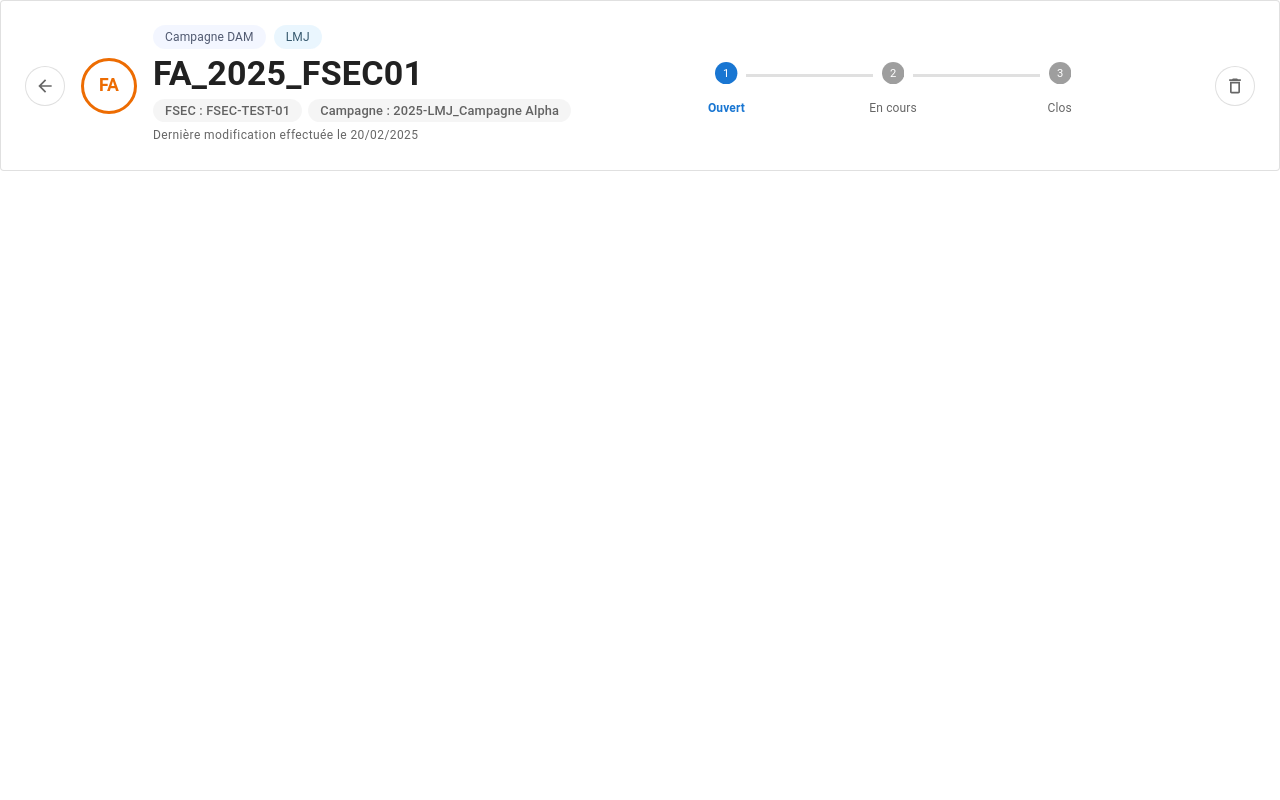
it: FaHeader › Delete flow › should open delete confirmation dialog on button click
The image size is (1280, 800).
Click the button named "Supprimer la FA" at (1235, 86), box [1215,66,1255,106]
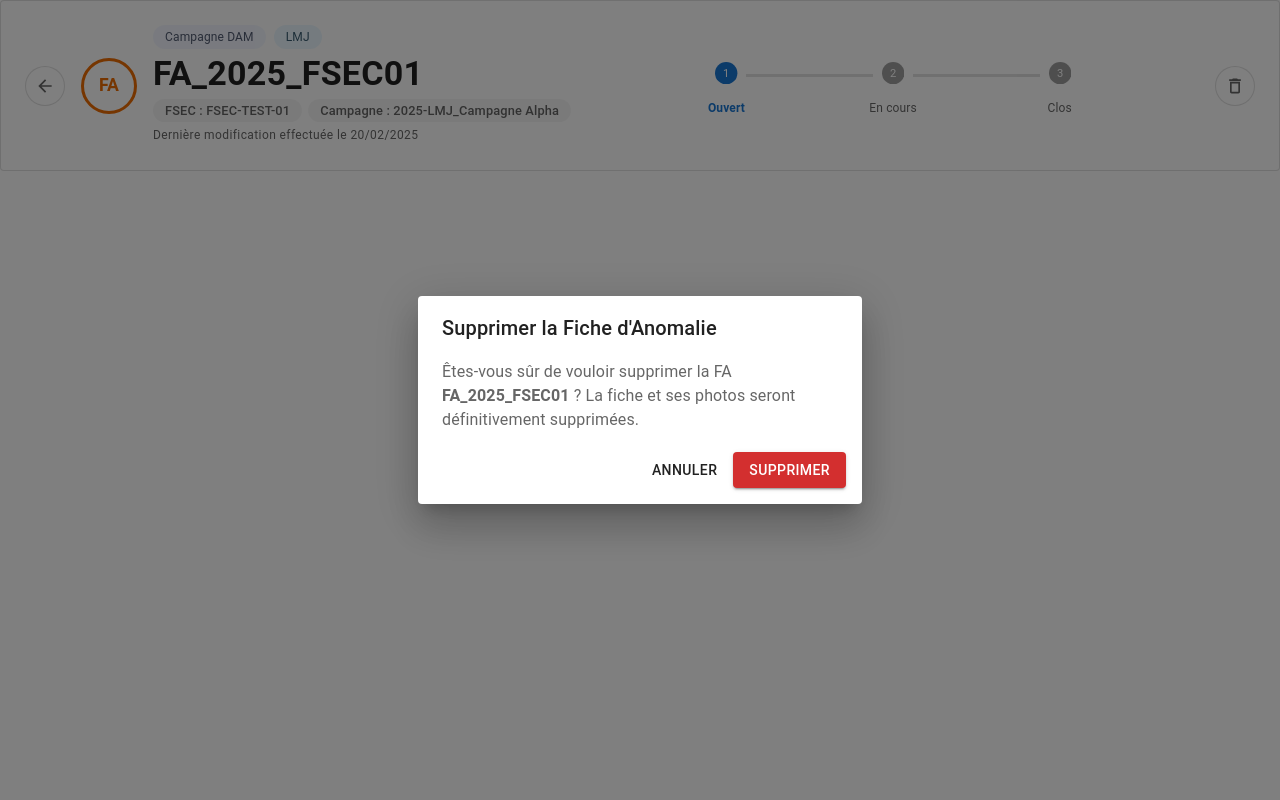
expect the text "Êtes-vous sûr de vouloir supprimer" is shown: met, box [442,362,732,381]
expect the text "FA_2025_FSEC01" is shown: met, box [442,386,570,405]
